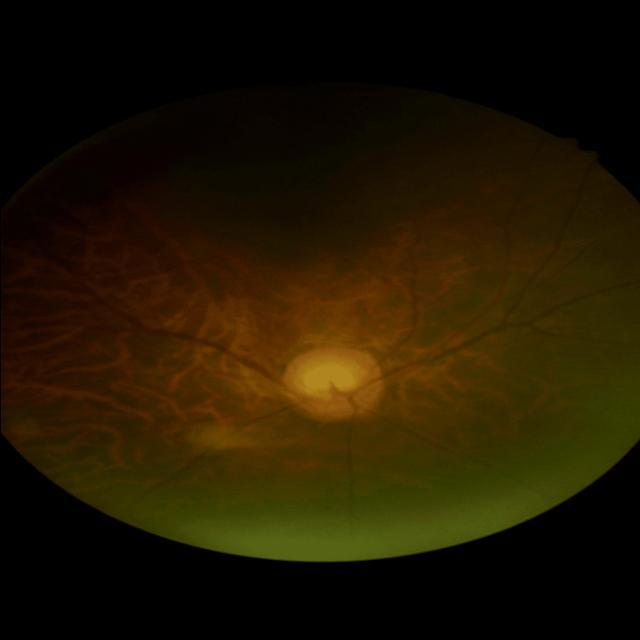cup: (298, 363, 366, 408)
disk: (280, 348, 386, 422)
